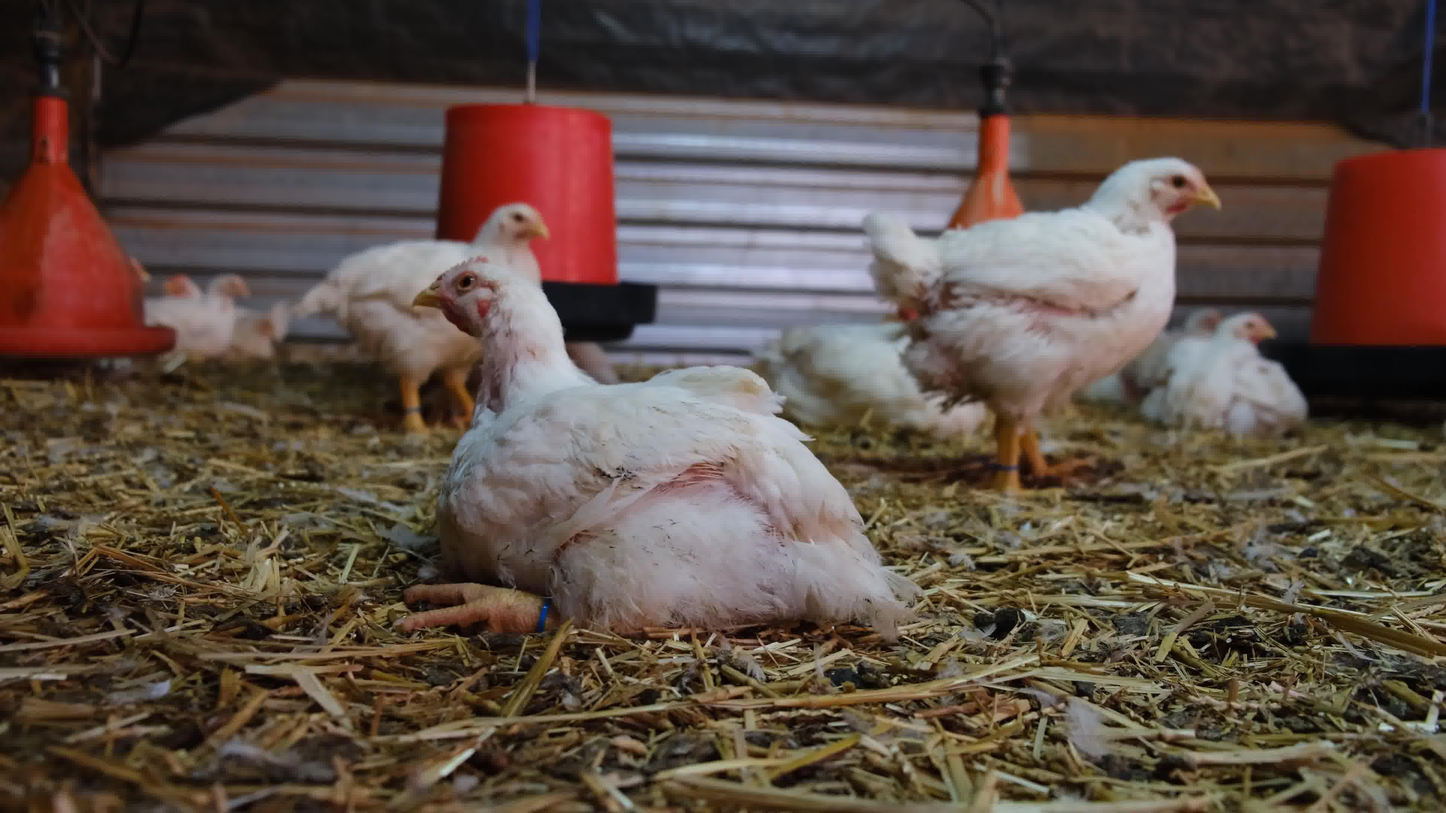AbNormal: (401, 256, 932, 636), (738, 303, 1007, 442), (1199, 305, 1324, 444), (130, 269, 267, 358), (1164, 284, 1239, 391), (232, 303, 303, 384)
Normal: (847, 158, 1228, 497), (288, 192, 552, 423)
